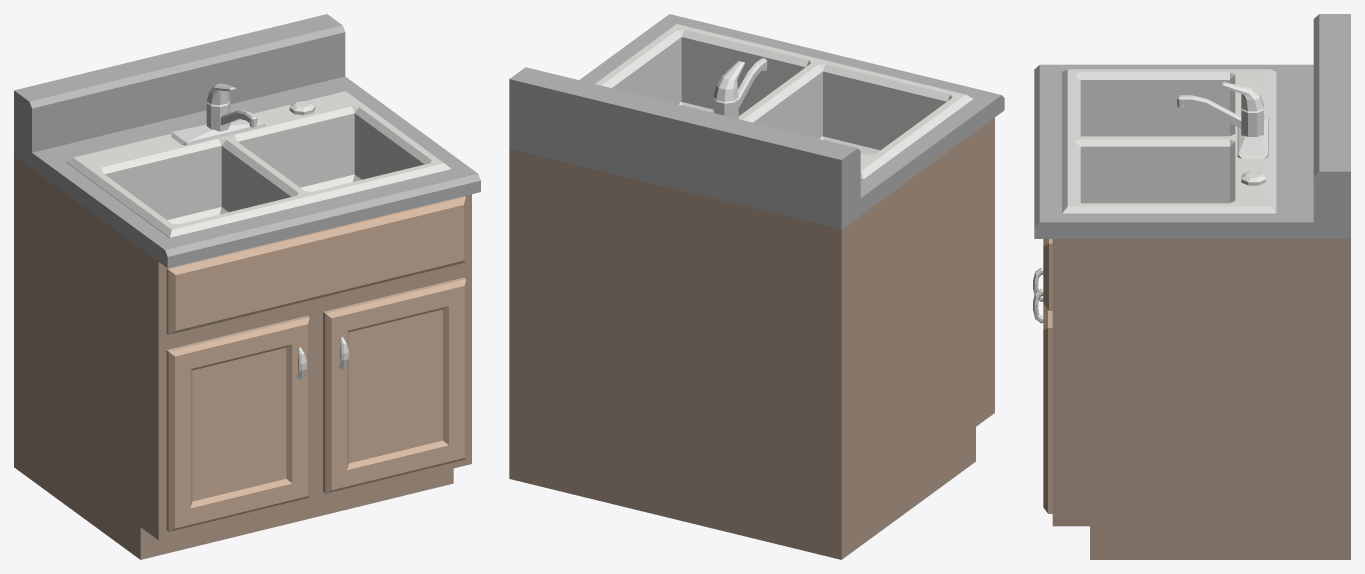
Rendered from sink_tmp.gltf.
The picture shows the model from 3 angles, left to right: view 1: azimuth 30°, elevation 25°; view 2: azimuth 150°, elevation 25°; view 3: azimuth 270°, elevation 25°; orthographic projection. The views are drawn at different scales.
Visible parts, largest first — view 1: object7, object2, object6, object4, object1; view 2: object7, object2, object6; view 3: object7, object6, object2, object4.
Part boxes in pixels (x1,y1,x2,y2): object7: (14, 156, 471, 559); object2: (14, 14, 480, 268); object6: (66, 83, 451, 238); object4: (323, 277, 466, 493); object1: (166, 315, 309, 531); object7: (509, 117, 994, 559); object2: (509, 14, 1004, 229); object6: (595, 24, 973, 179); object7: (1043, 239, 1350, 559); object6: (1062, 69, 1276, 214); object2: (1034, 14, 1350, 238); object4: (1043, 304, 1052, 513).
Bounding box in the file's own units: 1 × 1.18 × 0.8531.
